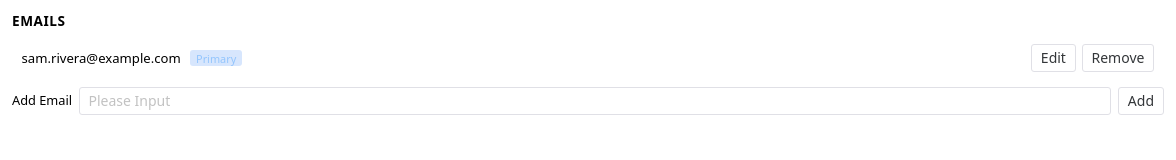
Scenario: ContactEntryList › removing an entry DELETEs it and re-renders from the returned entries list
Click the button "Remove" at (1118, 58), box [1082,44,1154,72]
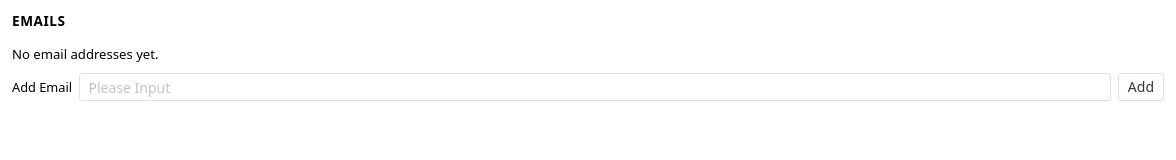
Result: no list items with test id "contact-entry-row" are shown
Result: the text "No email addresses yet." is shown at [12,46,158,64]
